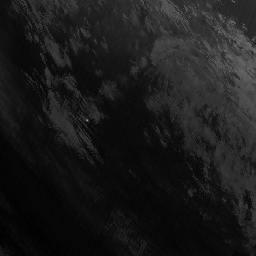Target: (83, 117, 90, 123)
